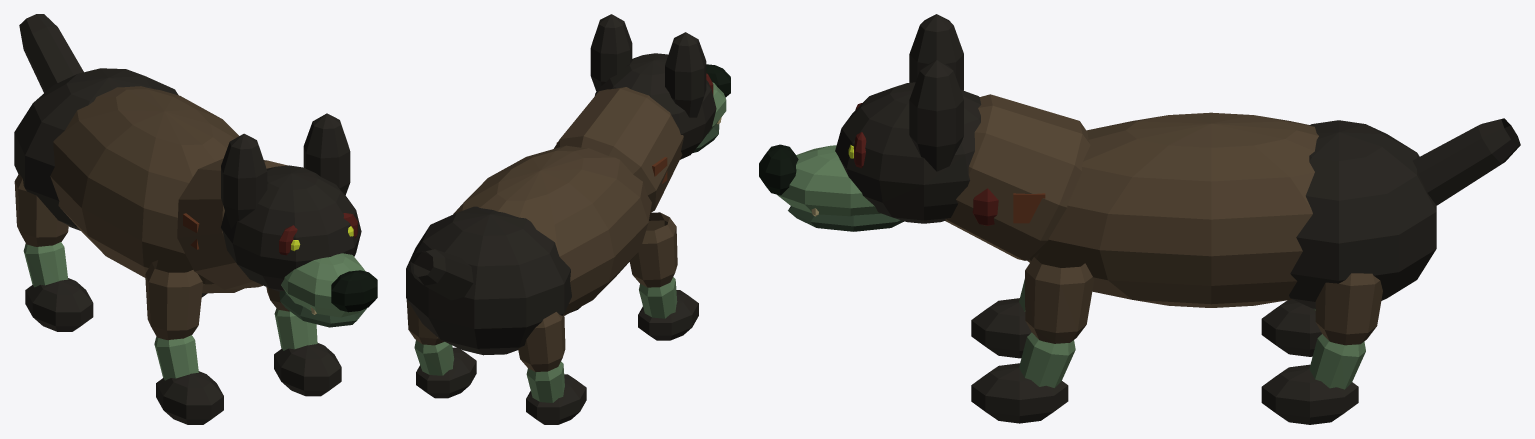
The model's file is Zombie_Dog_Dummy.obj.
3 renders of one model, left to right at view 1: azimuth 30°, elevation 25°; view 2: azimuth 150°, elevation 25°; view 3: azimuth 270°, elevation 25°, orthographic. The views are drawn at different scales.
Parts seen in each view (by area): view 1: ribcage, head, haunches, neck, front_left_upper, left_ear, tail, muzzle, front_right_paw, rear_left_paw, front_left_paw, right_ear (+7 smaller); view 2: haunches, ribcage, neck, head, left_ear, front_left_upper, right_ear, tail, rear_left_upper, rear_right_paw, front_left_paw, rear_left_paw (+6 smaller); view 3: ribcage, haunches, neck, head, tail, front_right_upper, right_ear, muzzle, rear_right_upper, front_right_paw, rear_right_paw, front_left_paw (+8 smaller).
Boxes of the visible parts, x1=… form: ribcage: x1=50, y1=86, x2=244, y2=293; head: x1=221, y1=165, x2=361, y2=291; haunches: x1=14, y1=68, x2=178, y2=230; neck: x1=177, y1=158, x2=287, y2=289; front_left_upper: x1=145, y1=260, x2=202, y2=340; left_ear: x1=221, y1=133, x2=267, y2=228; tail: x1=19, y1=14, x2=83, y2=92; muzzle: x1=281, y1=253, x2=365, y2=317; front_right_paw: x1=274, y1=343, x2=341, y2=396; rear_left_paw: x1=25, y1=278, x2=93, y2=331; front_left_paw: x1=156, y1=371, x2=223, y2=424; right_ear: x1=303, y1=113, x2=350, y2=194; haunches: x1=406, y1=206, x2=571, y2=355; ribcage: x1=453, y1=145, x2=651, y2=315; neck: x1=554, y1=87, x2=683, y2=212; head: x1=595, y1=53, x2=716, y2=159; left_ear: x1=665, y1=32, x2=706, y2=117; front_left_upper: x1=630, y1=212, x2=677, y2=287; right_ear: x1=590, y1=14, x2=632, y2=91; tail: x1=410, y1=249, x2=473, y2=300; rear_left_upper: x1=518, y1=312, x2=565, y2=371; rear_right_paw: x1=416, y1=347, x2=476, y2=398; front_left_paw: x1=638, y1=290, x2=698, y2=340; rear_left_paw: x1=526, y1=374, x2=586, y2=424; ribcage: x1=1027, y1=112, x2=1318, y2=307; haunches: x1=1289, y1=120, x2=1436, y2=308; neck: x1=945, y1=94, x2=1090, y2=260; head: x1=835, y1=82, x2=981, y2=223; tail: x1=1412, y1=118, x2=1520, y2=205; front_right_upper: x1=1025, y1=252, x2=1094, y2=343; right_ear: x1=909, y1=60, x2=963, y2=171; muzzle: x1=777, y1=145, x2=881, y2=216; rear_right_upper: x1=1315, y1=273, x2=1382, y2=345; front_right_paw: x1=971, y1=363, x2=1068, y2=423; rear_right_paw: x1=1261, y1=364, x2=1358, y2=424; front_left_paw: x1=971, y1=298, x2=1031, y2=358.
Bounding box in the file's own units: 0.7228 × 1.21 × 2.39.
